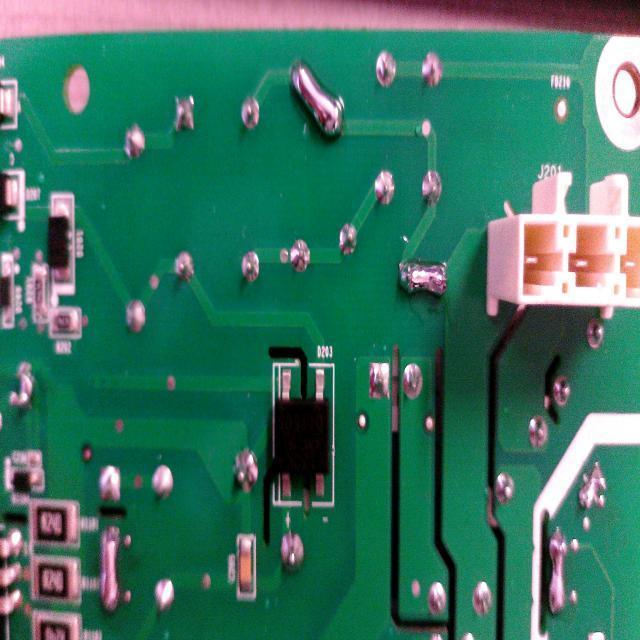Soldering shorted: (287, 52, 347, 148), (393, 252, 450, 306), (96, 522, 122, 624), (572, 458, 608, 518), (546, 524, 568, 618)
